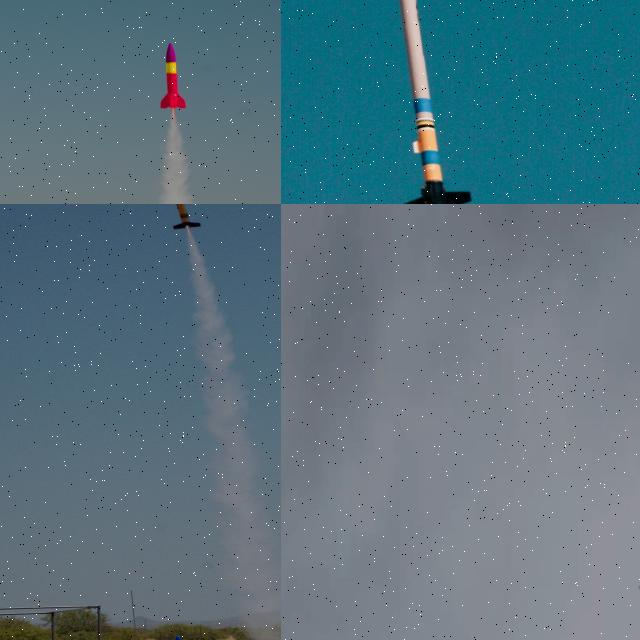Rocket: (381, 0, 475, 204), (159, 41, 188, 110), (172, 204, 201, 229), (637, 581, 640, 589)
